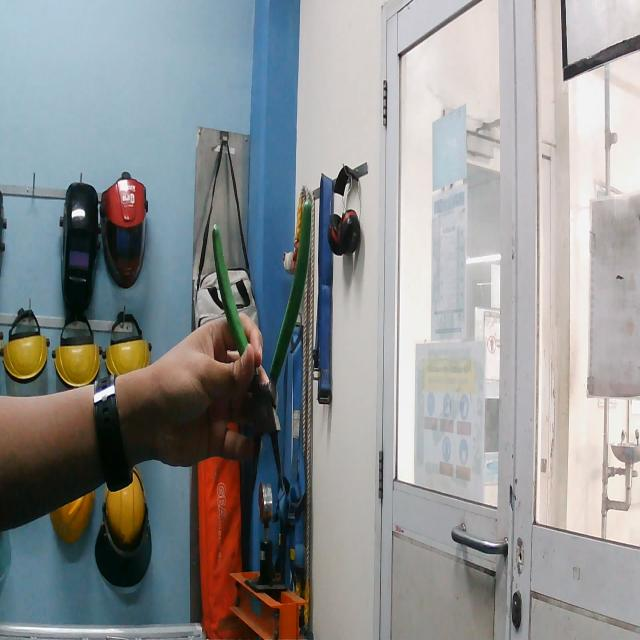tang_scun_hidrolik: (207, 195, 314, 501)
